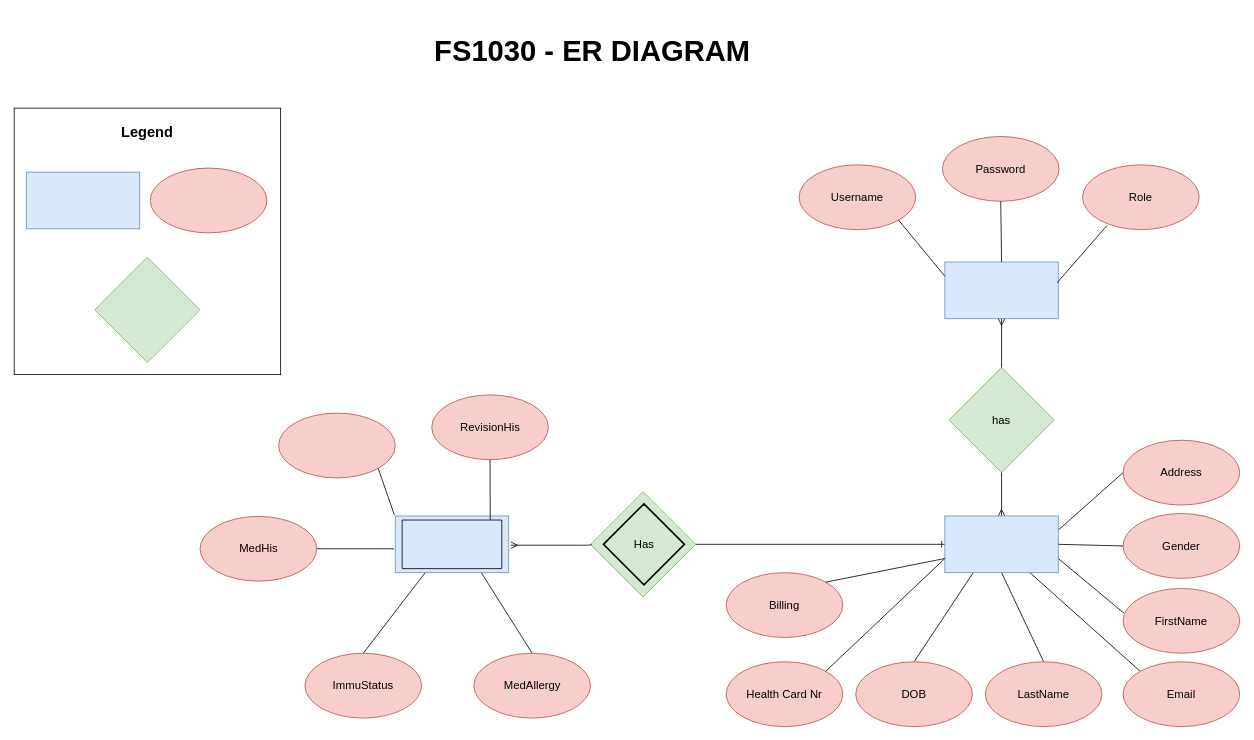
Some shapes in this 1254 by 740 pixel diagram are drawn without their labels. Each missing label, with the centre of its shape:
"Attribute" goes at point 208,200.
"Entity" goes at point 83,200.
"History Record" goes at point 451,544.
"Notes" goes at point 336,445.
"Patient" goes at point 1001,544.
"Relationship" goes at point 147,309.
"User" goes at point 1001,290.
